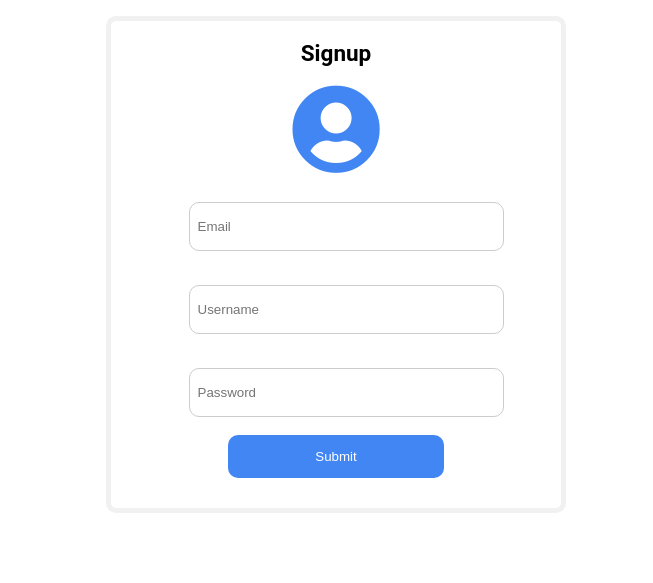
Signup Page › error message if email in use
This screenshot has width=653, height=583.
Type "test@email.com" into the field with placeholder "Email" at (346, 227), box [188, 202, 504, 251]
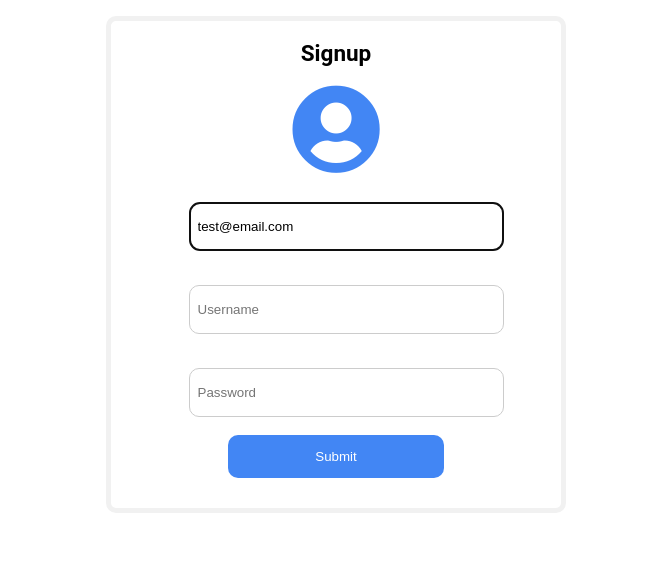
Type "TestUsername" into the field with placeholder "Username" at (346, 310), box [188, 285, 504, 334]
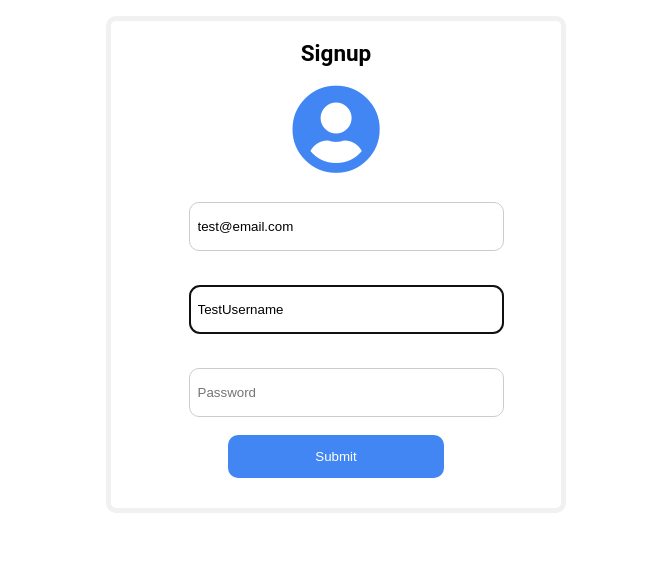
Type "1234" into the password field with placeholder "Password" at (346, 393), box [188, 368, 504, 417]
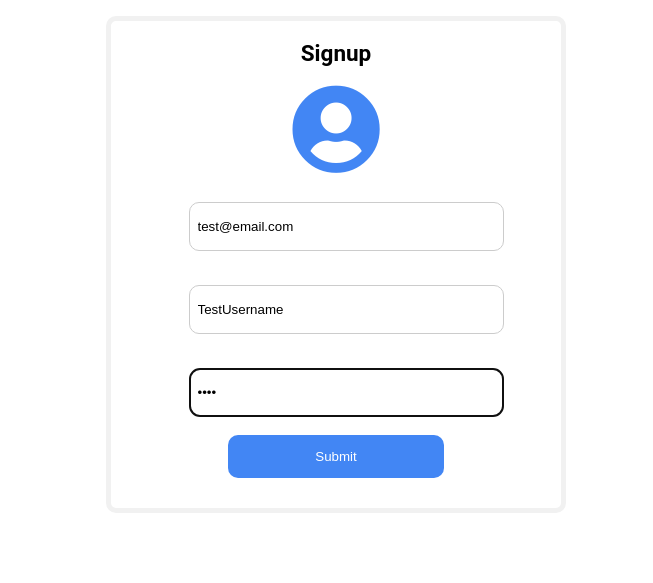
Click the button at (336, 457), box [228, 435, 444, 478]
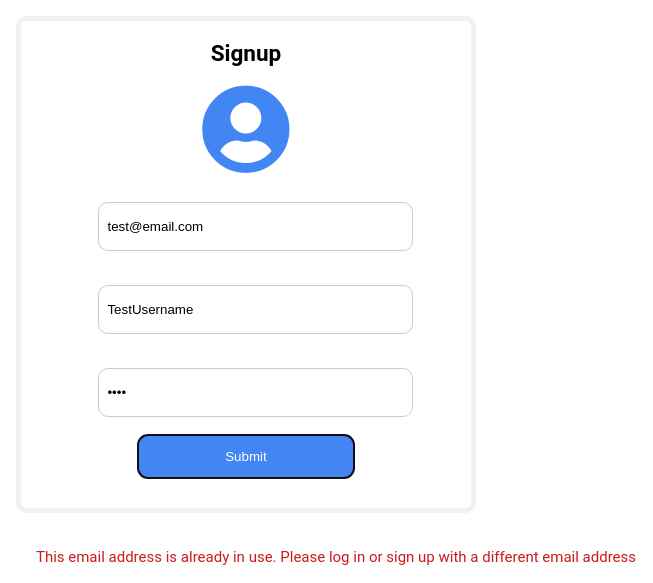
Check: the text "This email address is already in use. Please log in or sign up with a different email address" is shown, box [36, 548, 636, 566]
